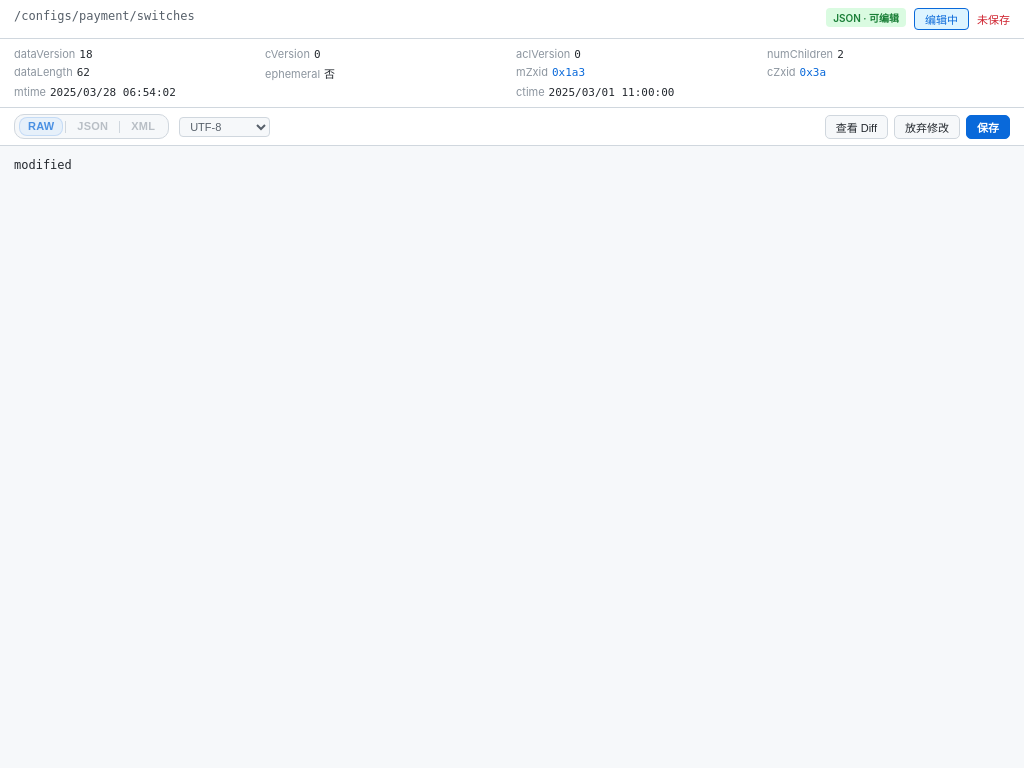
Test: discard button shows confirm dialog when there are dirty changes
The image size is (1024, 768).
Click the button "放弃修改" at [927, 126], box [894, 114, 960, 138]
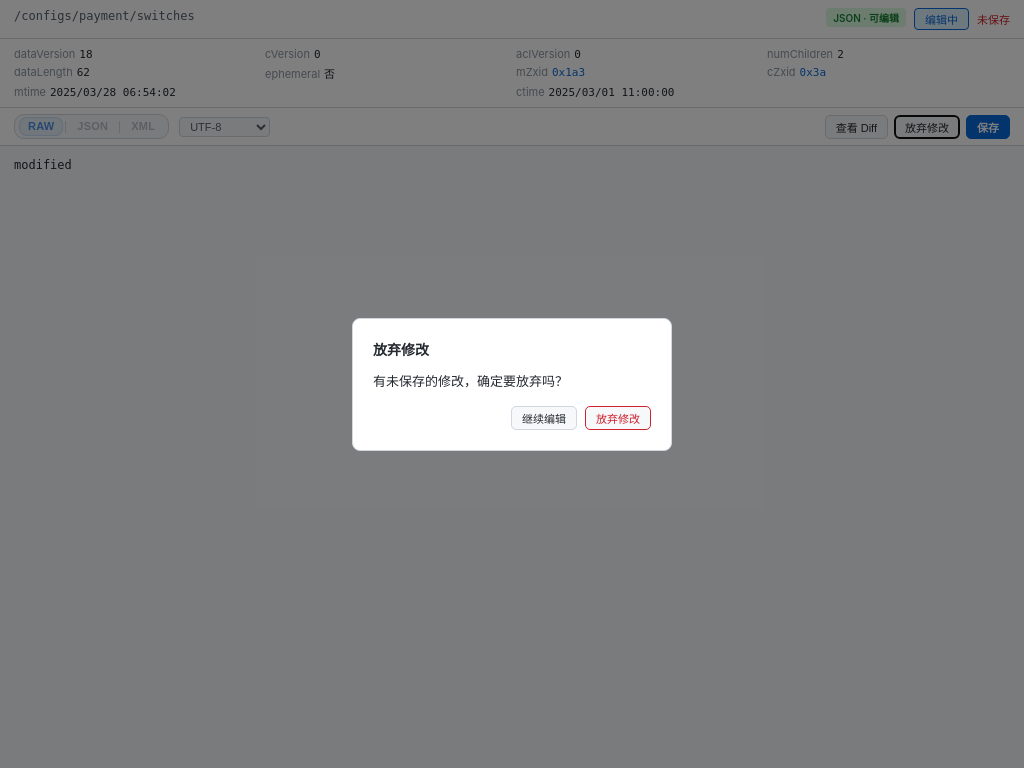
expect the dialog is shown: met, box [352, 318, 672, 450]
expect the text "有未保存的修改，确定要放弃吗？" is shown: met, box [373, 372, 568, 388]
